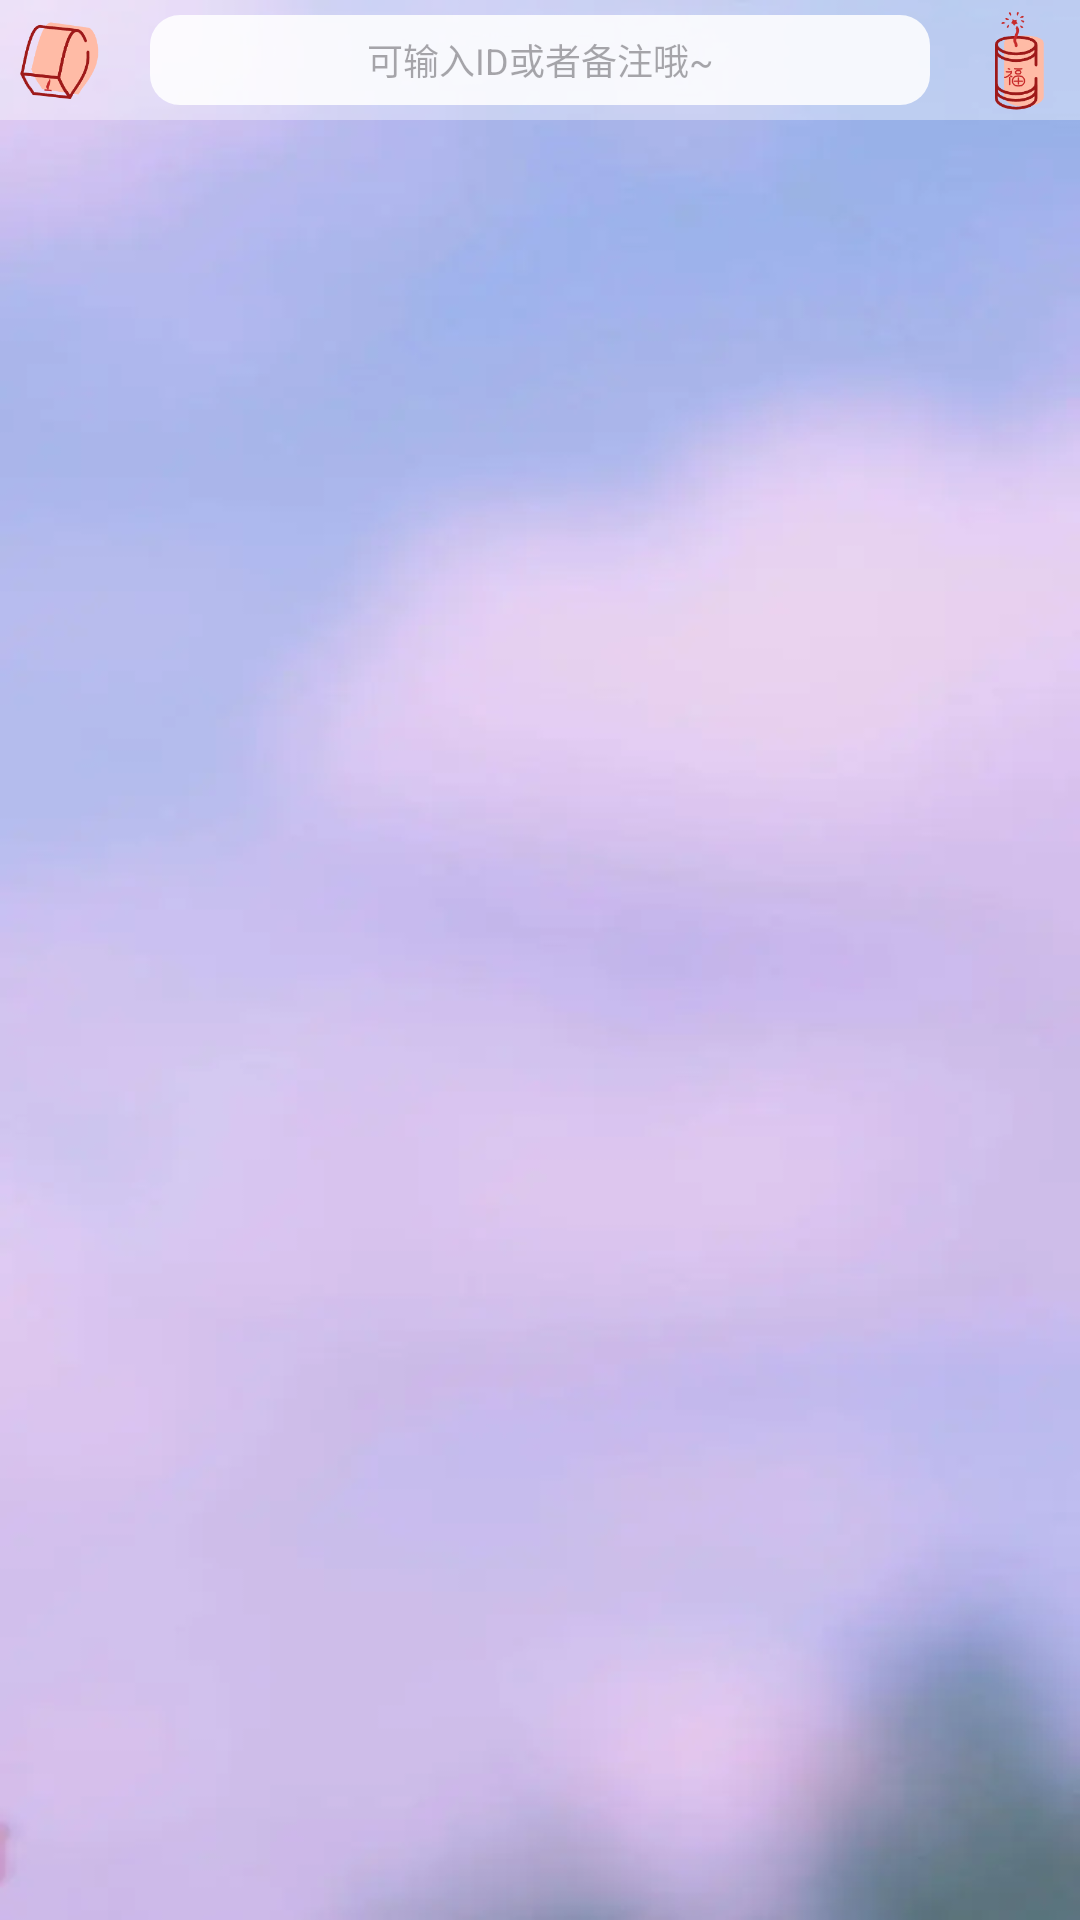

Icon click points for this 1080*1920 phone screenshot, format (x,y):
kongmingdeng: (59,60)
paozhu: (1019,61)
